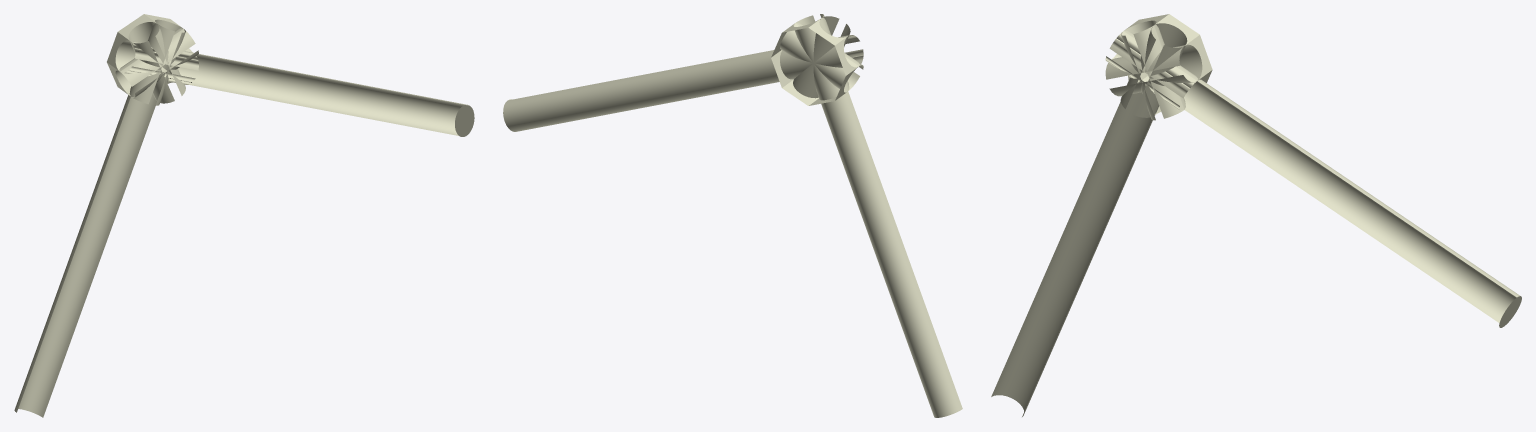
The model's file is original-4.obj.
The picture shows the model from 3 angles, left to right: view 1: azimuth 30°, elevation 25°; view 2: azimuth 150°, elevation 25°; view 3: azimuth 330°, elevation 25°; orthographic projection. The views are drawn at different scales.
Visible parts, largest first — view 1: mesh1/mesh1-geometry/material_0/component_1#mesh1-geometry; view 2: mesh1/mesh1-geometry/material_0/component_1#mesh1-geometry; view 3: mesh1/mesh1-geometry/material_0/component_1#mesh1-geometry.
Boxes of the visible parts, x1,y1,x2,y2 form: mesh1/mesh1-geometry/material_0/component_1#mesh1-geometry: (14,14,474,417); mesh1/mesh1-geometry/material_0/component_1#mesh1-geometry: (503,14,962,417); mesh1/mesh1-geometry/material_0/component_1#mesh1-geometry: (991,14,1521,416).
Size of the model in its own units: 0.3606 by 0.2785 by 0.0297.
